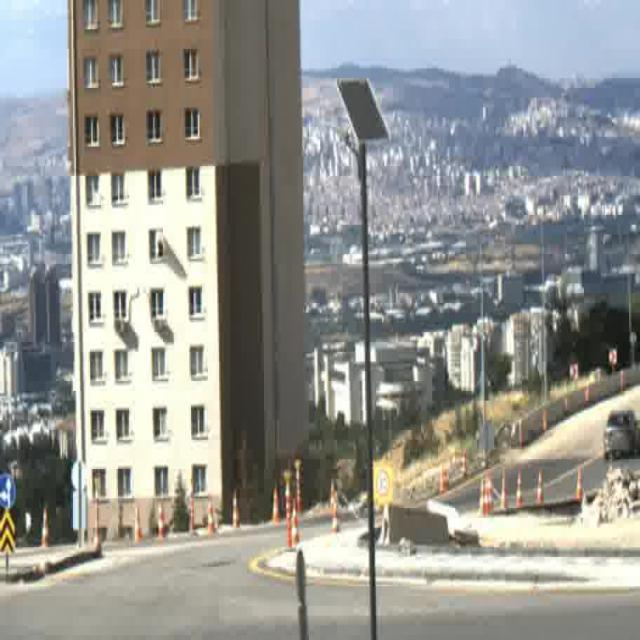Car: (605, 413, 638, 460)
